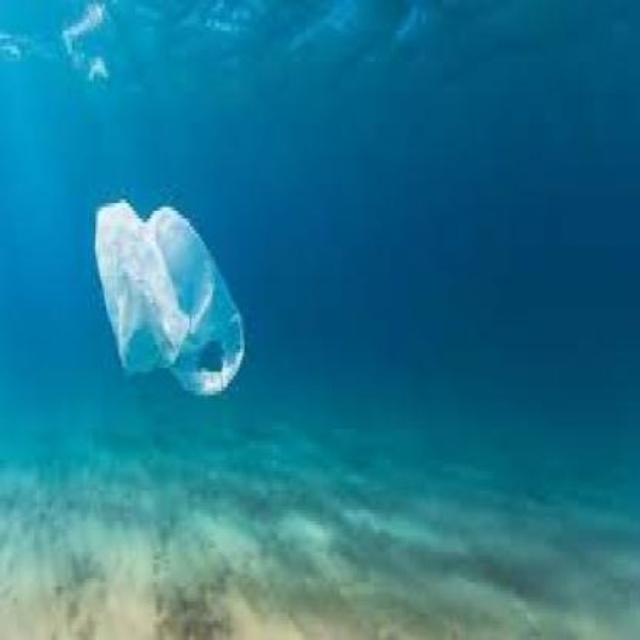trash: (95, 200, 243, 394)
